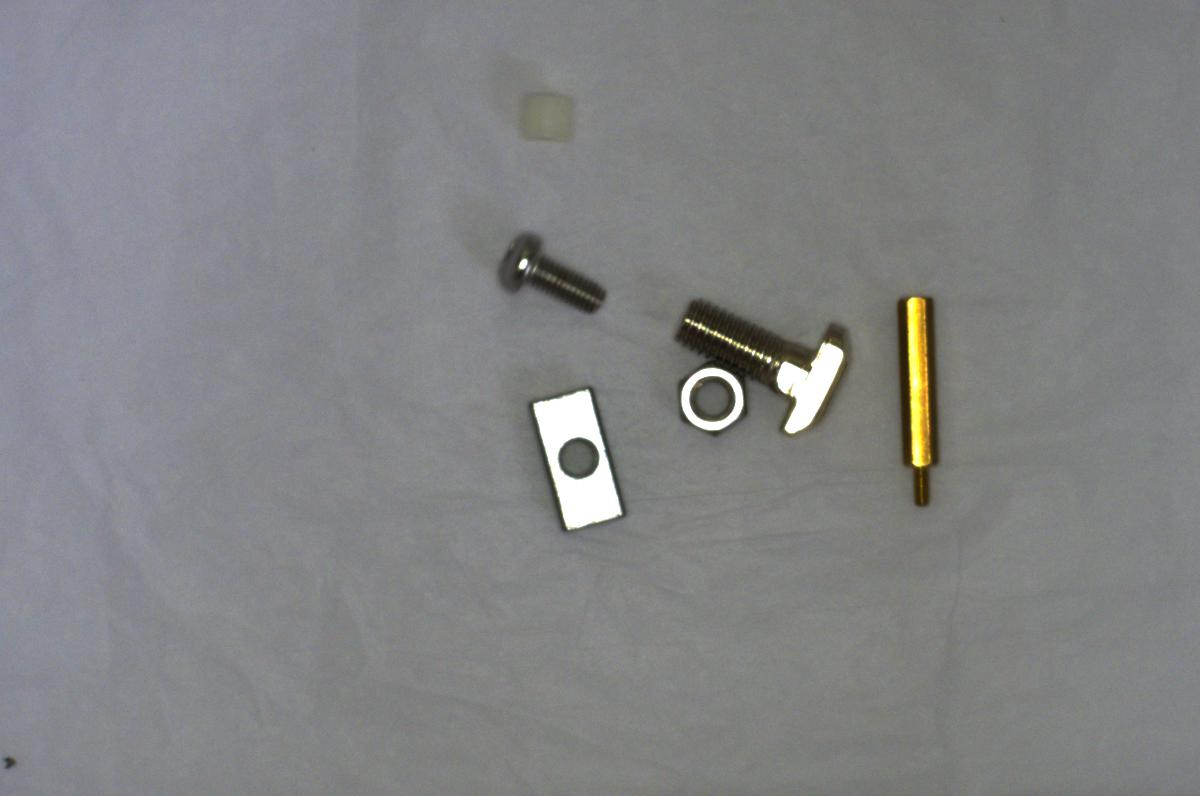Hexagon nut: (671, 360, 747, 438)
Hexagon pillar: (875, 287, 946, 508)
Plastic cushion pillar: (520, 79, 579, 149)
Rectangular nut: (525, 381, 628, 534)
Round head screw: (493, 225, 608, 314)
T-shaped screw: (662, 294, 851, 439)
